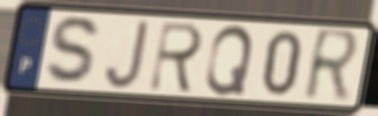0: (259, 28, 306, 98)
J: (102, 18, 152, 92)
Q: (203, 23, 256, 98)
R: (300, 26, 363, 106), (146, 19, 207, 96)
S: (42, 14, 105, 89)
